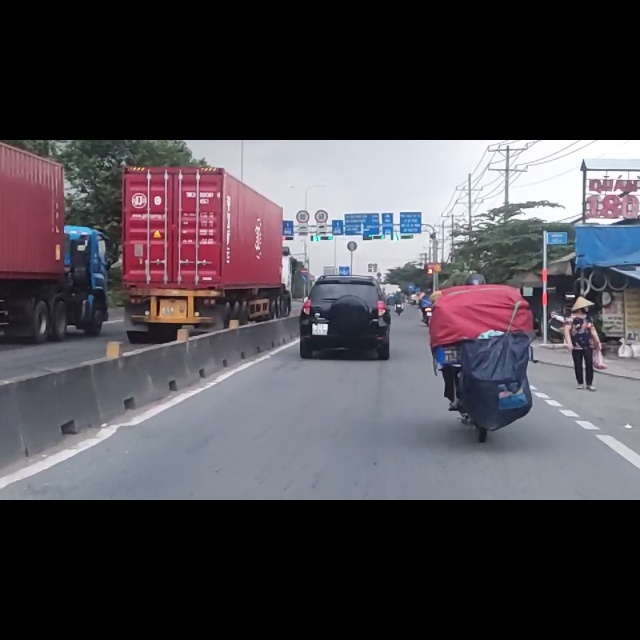bien_cam: (314, 122, 329, 149), (297, 124, 309, 148), (300, 226, 308, 239), (301, 241, 307, 251)
